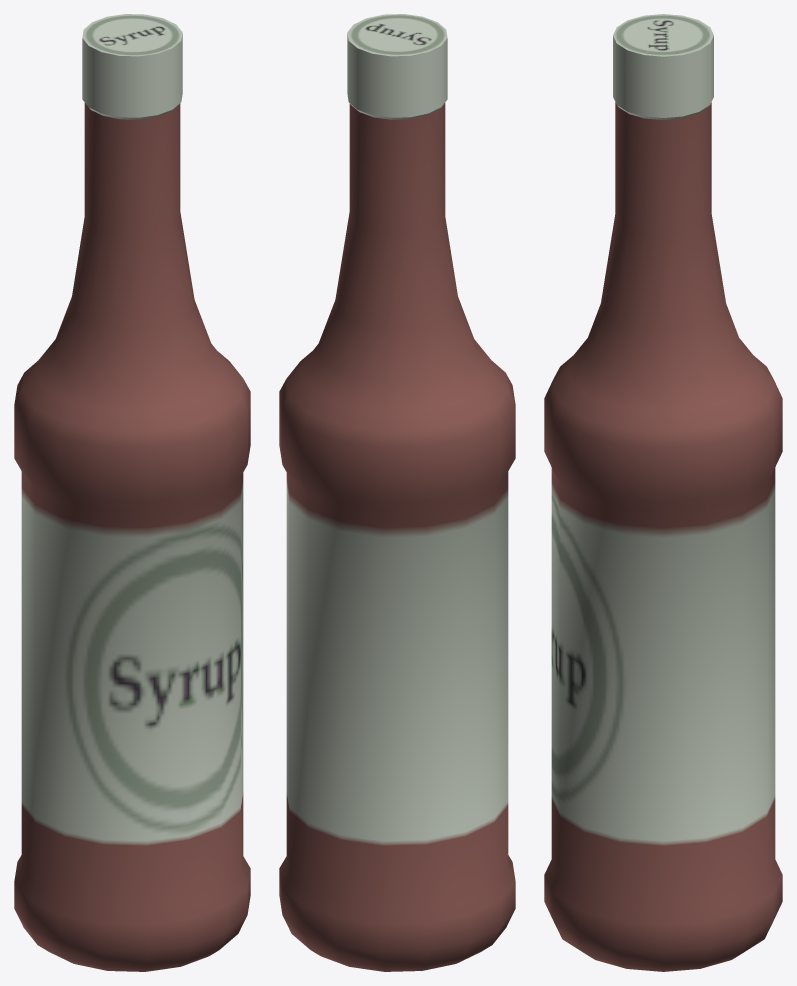
Rendered from bottle-syrup.fbx.
3 renders of one model, left to right at view 1: azimuth 30°, elevation 25°; view 2: azimuth 150°, elevation 25°; view 3: azimuth 270°, elevation 25°, orthographic.
Visible parts, largest first — view 1: bottle_syrup; view 2: bottle_syrup; view 3: bottle_syrup.
Part boxes in pixels (x1=…): bottle_syrup: x1=14, y1=14, x2=250, y2=971; bottle_syrup: x1=279, y1=14, x2=515, y2=971; bottle_syrup: x1=544, y1=14, x2=782, y2=971.
Size of the model in its own units: 0.0588 by 0.2439 by 0.0588.
